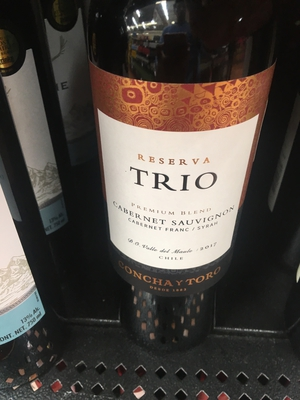trio cabernet sauvignon: (90, 8, 281, 343)
